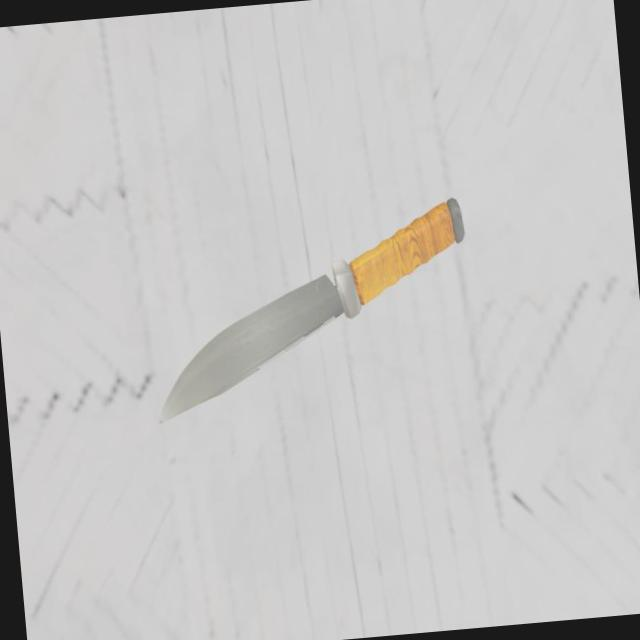knife: (328, 203, 471, 315)
